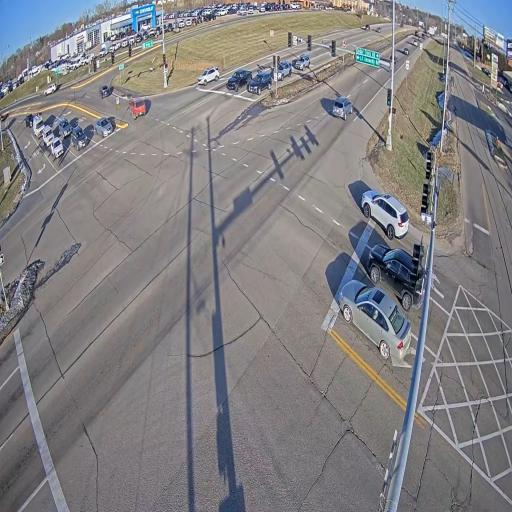pickup: (226, 69, 252, 91)
sedan: (337, 279, 411, 361), (95, 118, 113, 137), (403, 47, 409, 55), (375, 27, 381, 33)
suv: (366, 244, 425, 311), (361, 190, 409, 239), (248, 72, 272, 95), (332, 98, 353, 120), (71, 125, 87, 151), (198, 66, 219, 85), (129, 98, 146, 119), (277, 60, 292, 80), (51, 137, 64, 158), (59, 118, 72, 138), (295, 54, 310, 70), (43, 125, 54, 146), (44, 83, 57, 96), (99, 84, 110, 99), (26, 114, 33, 127), (413, 39, 418, 46), (365, 24, 370, 30), (421, 33, 425, 39), (415, 30, 418, 37)
van: (33, 115, 45, 138)
